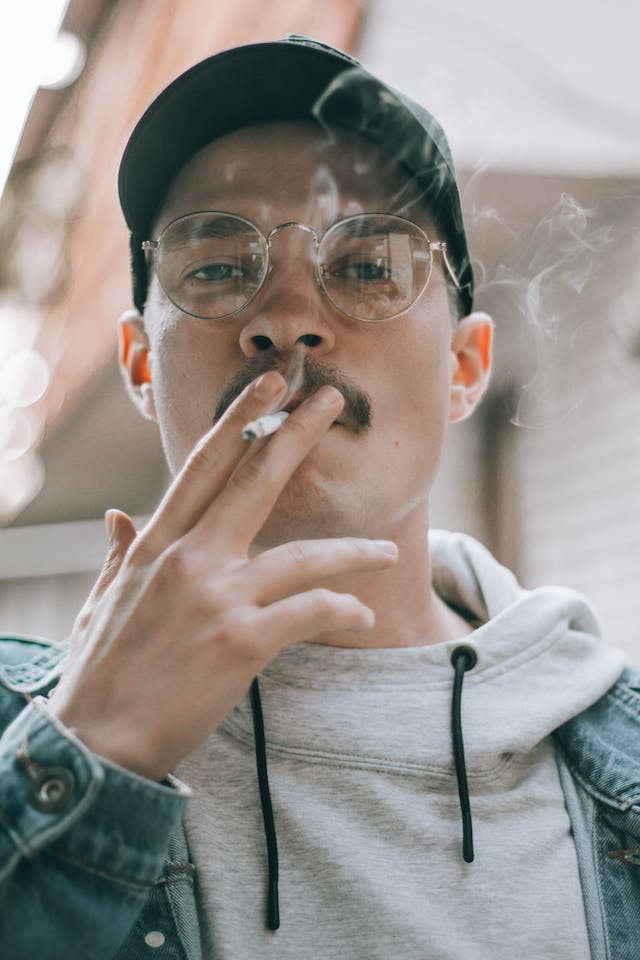Cigarette: (241, 411, 292, 441)
